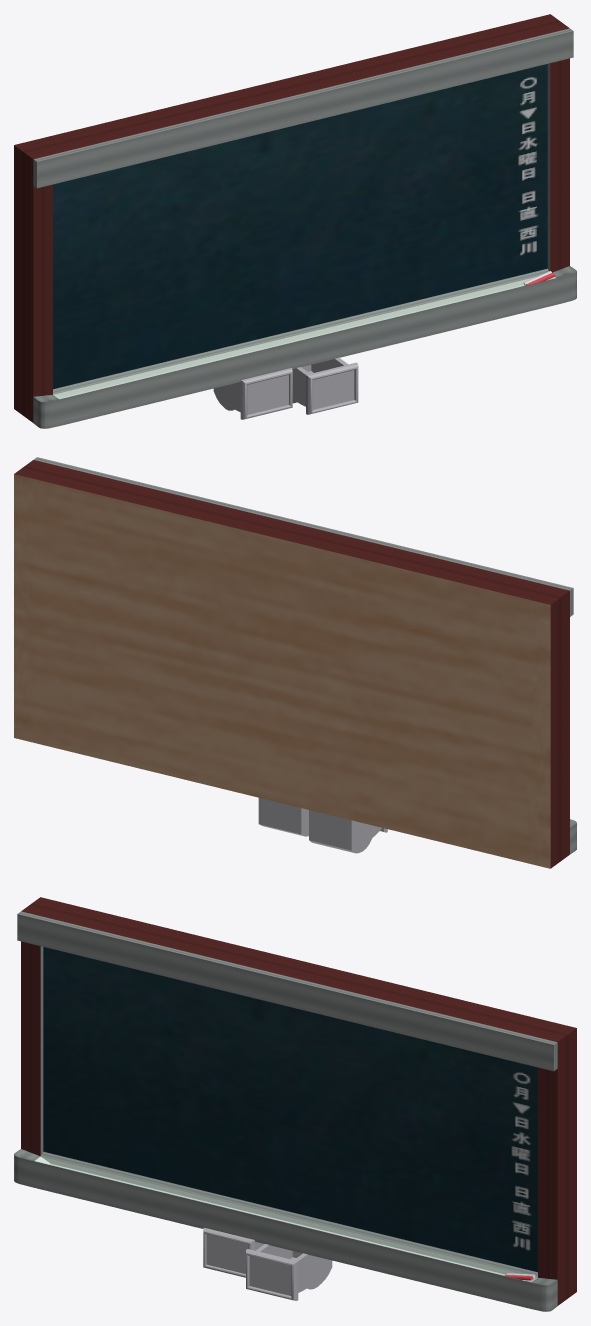
Rendered from Aseet_BlackBoard.fbx.
3 renders of one model, top to bottom at view 1: azimuth 30°, elevation 25°; view 2: azimuth 150°, elevation 25°; view 3: azimuth 330°, elevation 25°, orthographic.
Parts seen in each view (by area): view 1: SK_BlackBoard; view 2: SK_BlackBoard; view 3: SK_BlackBoard.
Part boxes in pixels (x1,y1,x2,y2): SK_BlackBoard: (14,14,576,428); SK_BlackBoard: (14,457,576,868); SK_BlackBoard: (14,897,576,1311).
Size of the model in its own units: 18.15 by 9.8 by 2.68.
